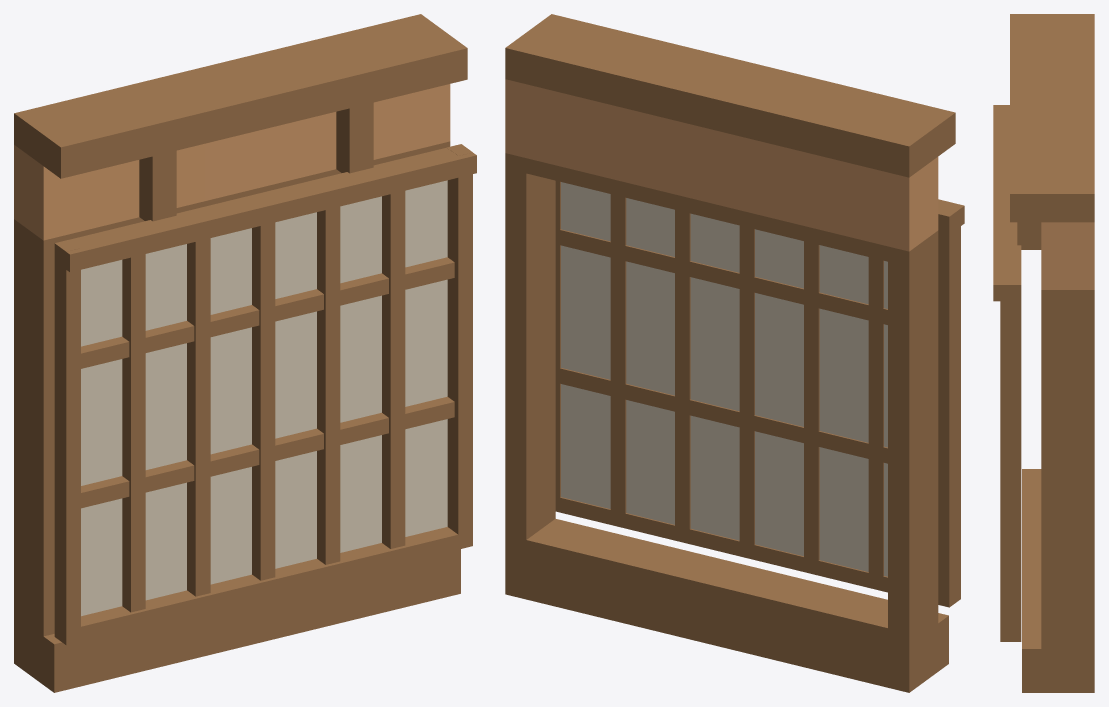
File: quaternius-sushi-restaurant-wall-door.glb
The picture shows the model from 3 angles, left to right: view 1: azimuth 30°, elevation 25°; view 2: azimuth 150°, elevation 25°; view 3: azimuth 270°, elevation 25°; orthographic projection. The views are drawn at different scales.
Parts seen in each view (by area): view 1: Door; view 2: Door; view 3: Door.
Boxes of the visible parts, <box> form: Door: <box>14,14,476,692</box>; Door: <box>505,14,964,692</box>; Door: <box>993,14,1094,692</box>.
Size of the model in its own units: 4 by 5.17 by 0.9505.
Materials: 2 (1 with a texture image).
